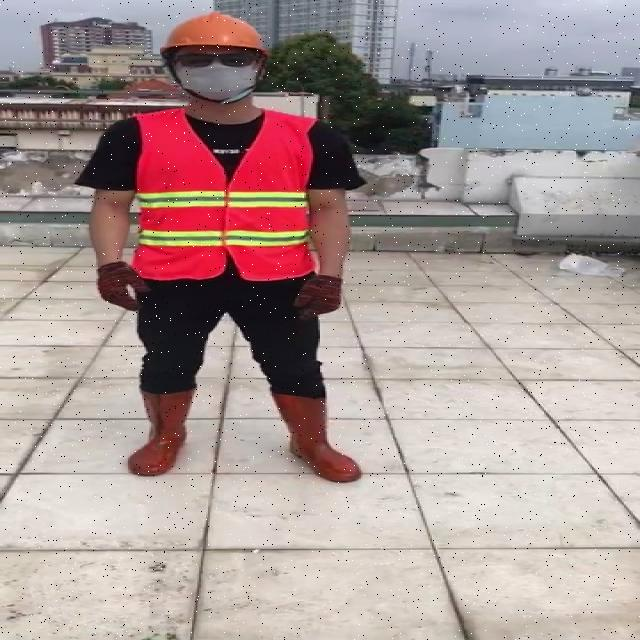Hard_hat: (155, 10, 269, 65)
Person: (70, 6, 372, 512)
Vest: (131, 111, 315, 284)
